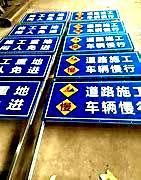sign: (53, 78, 141, 119), (59, 54, 141, 76), (1, 79, 37, 111), (1, 54, 50, 77), (65, 36, 133, 50), (2, 38, 58, 51), (67, 23, 126, 33), (22, 10, 68, 22), (12, 24, 63, 34), (72, 10, 120, 18)
